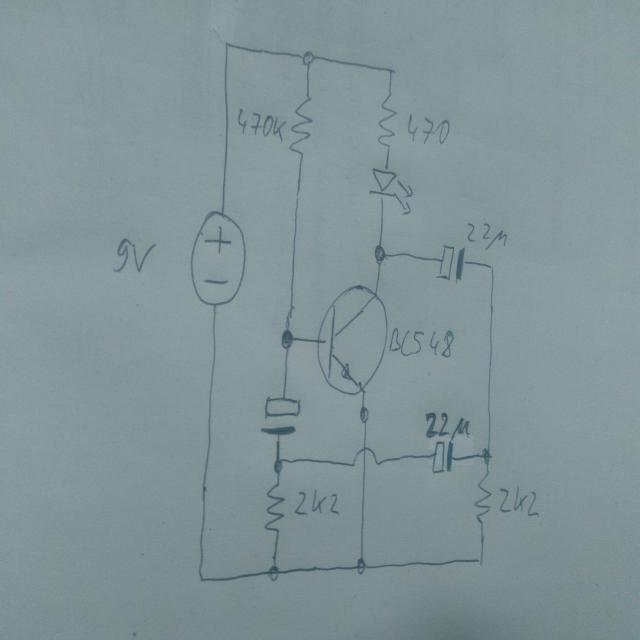capacitor: (260, 394, 302, 436), (436, 242, 466, 284), (430, 439, 454, 476)
crossover: (351, 445, 381, 470)
diode: (368, 166, 414, 217)
junction: (281, 329, 295, 350), (373, 244, 387, 264), (300, 50, 315, 68), (267, 564, 281, 582), (358, 405, 371, 424), (272, 457, 285, 475), (355, 558, 368, 576), (481, 447, 492, 464), (195, 570, 207, 584), (474, 554, 486, 568), (222, 39, 233, 54), (387, 64, 396, 80), (486, 261, 496, 275)
resistor: (288, 91, 314, 162), (262, 476, 286, 540), (376, 91, 398, 154), (472, 467, 494, 525)
source: (189, 209, 247, 310)
text: (387, 326, 454, 358), (236, 107, 286, 143), (111, 238, 157, 274), (406, 112, 451, 146), (466, 219, 508, 251), (497, 486, 540, 516), (424, 411, 471, 438), (294, 490, 340, 515)
transistor: (315, 281, 391, 400)
